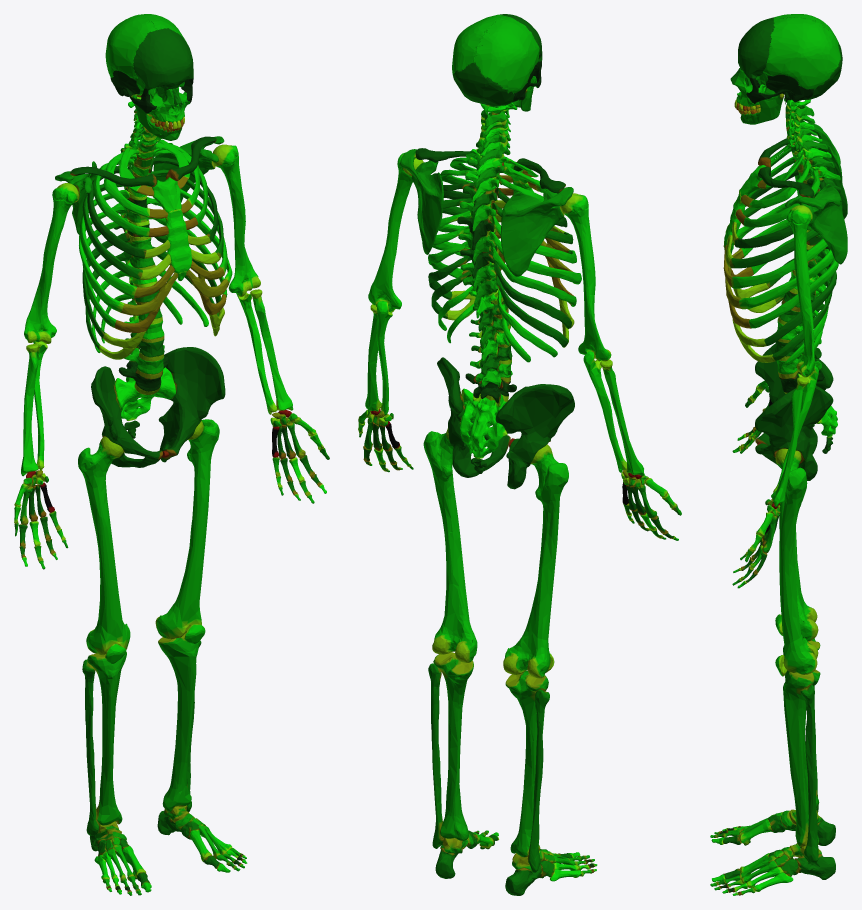
The model's file is bones.glb.
The picture shows the model from 3 angles, left to right: view 1: azimuth 30°, elevation 25°; view 2: azimuth 150°, elevation 25°; view 3: azimuth 270°, elevation 25°; orthographic projection. The views are drawn at different scales.
Parts seen in each view (by area): view 1: skull|C, ribs|R, spine|C, femur|R, femur|L, pelvis|L, ribs|L, tibia|L, costal_cartilage|R, tibia|R, humerus|R, humerus|L (+16 smaller); view 2: spine|C, skull|C, ribs|R, femur|R, femur|L, pelvis|R, ribs|L, scapula|R, tibia|L, tibia|R, humerus|R, humerus|L (+14 smaller); view 3: skull|C, ribs|L, spine|C, femur|L, foot_bones|L, pelvis|L, tibia|L, humerus|L, scapula|L, foot_bones|R, fibula|L, ribs|R (+13 smaller).
Part boxes in pixels (bbox=[...]): skull|C: bbox=[105, 14, 193, 123]; ribs|R: bbox=[79, 147, 149, 352]; spine|C: bbox=[114, 97, 175, 438]; femur|R: bbox=[78, 436, 130, 655]; femur|L: bbox=[155, 419, 219, 639]; pelvis|L: bbox=[158, 347, 225, 462]; ribs|L: bbox=[146, 139, 232, 326]; tibia|L: bbox=[158, 633, 199, 811]; costal_cartilage|R: bbox=[99, 185, 178, 359]; tibia|R: bbox=[87, 652, 126, 825]; humerus|R: bbox=[24, 183, 78, 343]; humerus|L: bbox=[212, 144, 260, 296]; spine|C: bbox=[457, 102, 517, 473]; skull|C: bbox=[452, 14, 542, 106]; ribs|R: bbox=[489, 158, 581, 362]; femur|R: bbox=[503, 444, 568, 678]; femur|L: bbox=[423, 428, 477, 662]; pelvis|R: bbox=[495, 384, 574, 489]; ribs|L: bbox=[428, 151, 476, 343]; scapula|R: bbox=[501, 187, 573, 276]; tibia|L: bbox=[433, 652, 473, 840]; tibia|R: bbox=[505, 671, 548, 857]; humerus|R: bbox=[561, 193, 611, 361]; humerus|L: bbox=[368, 152, 423, 312]; skull|C: bbox=[730, 14, 842, 106]; ribs|L: bbox=[729, 153, 838, 365]; spine|C: bbox=[775, 99, 840, 453]; femur|L: bbox=[775, 448, 818, 674]; foot_bones|L: bbox=[710, 843, 835, 895]; pelvis|L: bbox=[755, 386, 833, 480]; tibia|L: bbox=[783, 669, 820, 846]; humerus|L: bbox=[786, 205, 815, 377]; scapula|L: bbox=[785, 184, 847, 264]; foot_bones|R: bbox=[710, 809, 835, 845]; fibula|L: bbox=[800, 684, 818, 863]; ribs|R: bbox=[736, 144, 833, 312].
Size of the model in its own units: 0.6692 by 1.7 by 0.2501.
